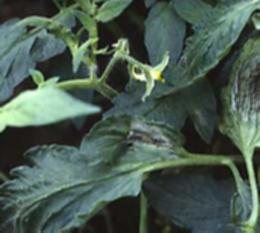Tomato leaf late blight: (0, 113, 193, 233), (177, 0, 260, 81), (215, 33, 260, 169)
